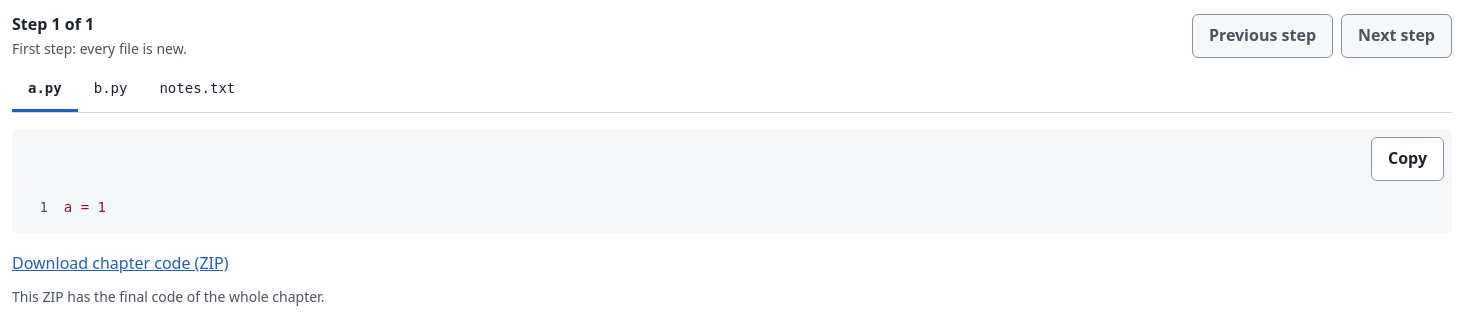
Test case: loading Shiki on demand › loads the core and only the Python grammar for two .py tabs, once, and no grammar for a .txt tab
This screenshot has width=1464, height=323.
expect the element showing "a.py b.py notes.txt" is shown: met, box left=12, top=68, right=1452, bottom=113
Click the tab "b.py" at (111, 90), box left=78, top=68, right=143, bottom=112
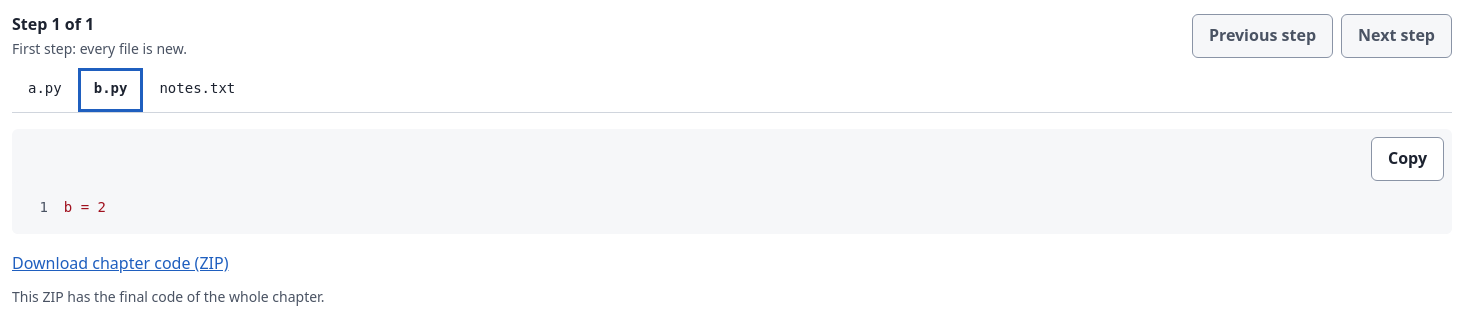
expect the text "b = 2" is shown: met, box left=64, top=199, right=106, bottom=215
expect the element named "b.py" is shown: met, box left=12, top=181, right=1452, bottom=234
Click the tab "notes.txt" at (197, 90), box left=143, top=68, right=251, bottom=112
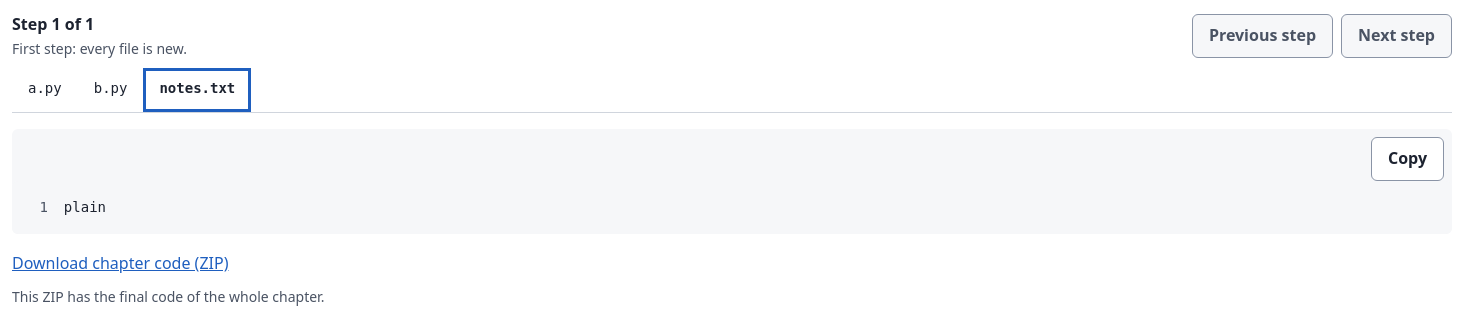
expect the element named "notes.txt" is shown: met, box left=12, top=181, right=1452, bottom=234
expect the text with class "code-token-keyword" is gone: met
